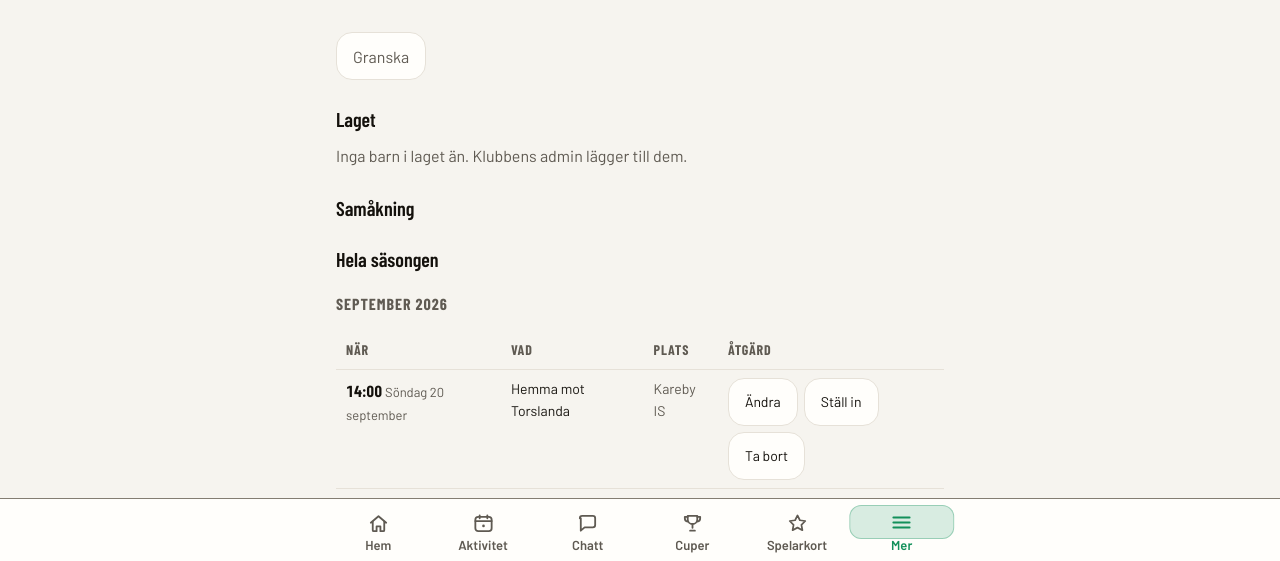
Scenario: fel vid ändring visas i stället för att sväljas (#393) › ett misslyckat borttag visar ett fel och stänger inte panelen
(page scrolled)
Click the button named "Ta bort Hemma mot Torslanda": (767, 456) [728,432,805,480]
(page scrolled)
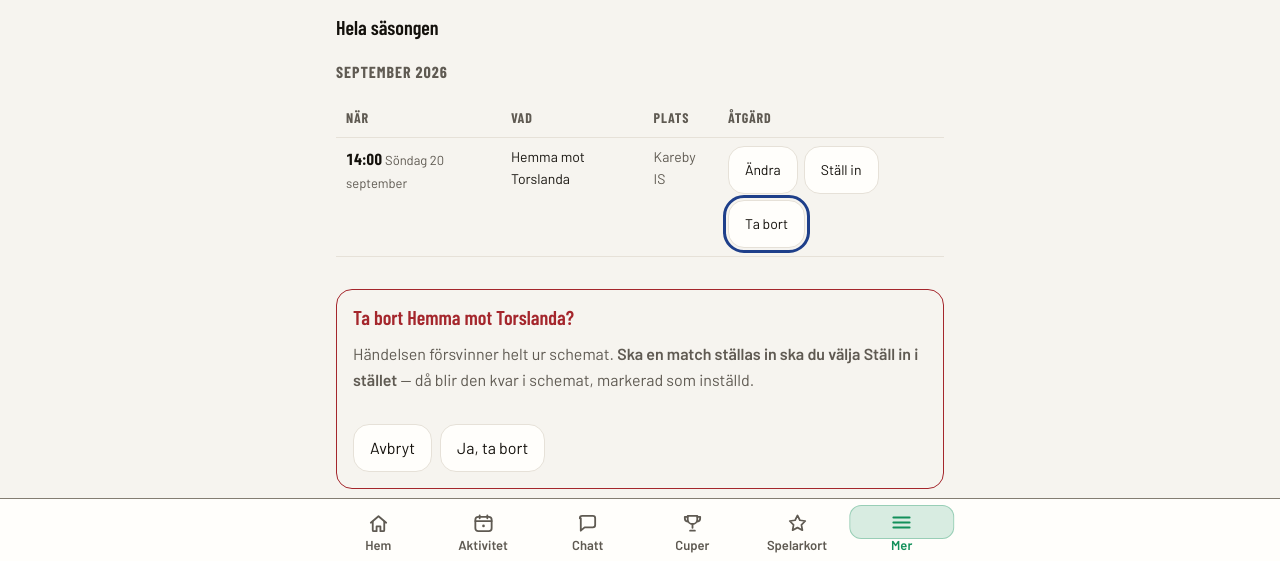
Click the button "Ja, ta bort": (493, 448) [440,424,545,472]
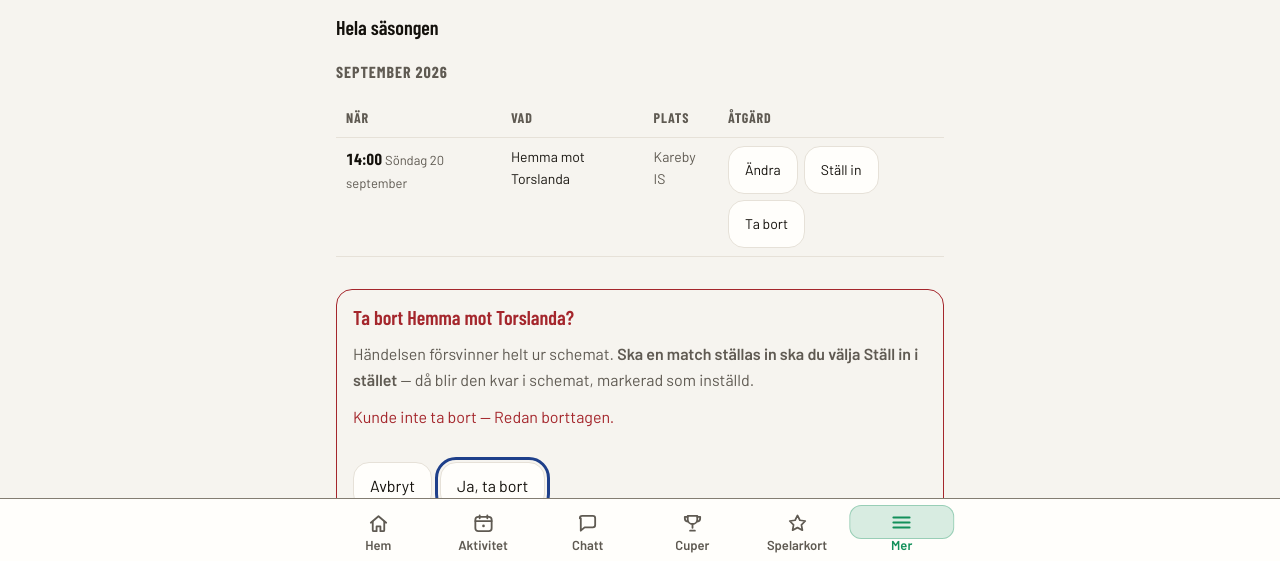
Check: the heading "Ta bort Hemma mot Torslanda?" is shown, box [353,306,574,329]
Check: the text "Kunde inte ta bort — Redan borttagen." is shown, box [353,404,614,430]
